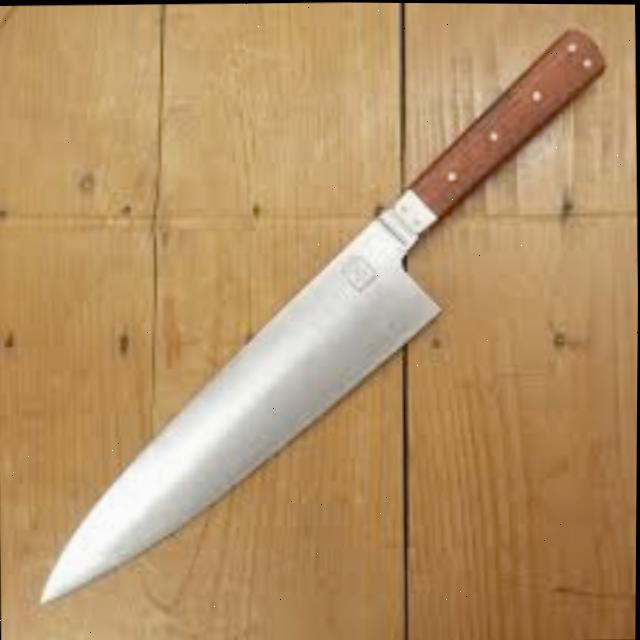knife: (29, 21, 613, 605)
